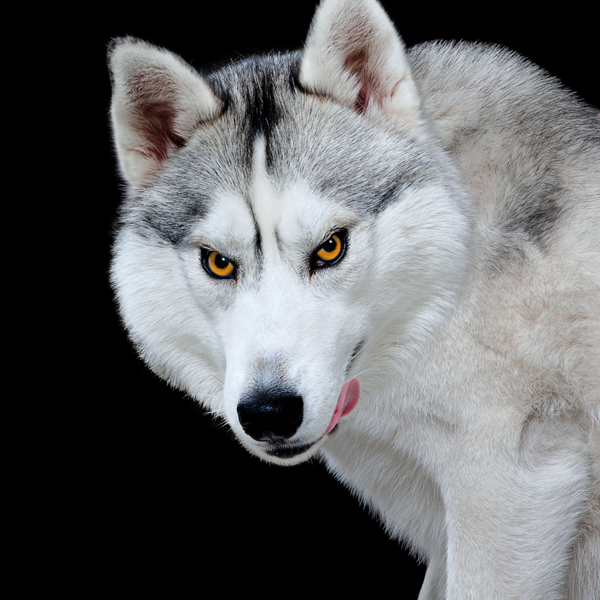Lobo: (71, 1, 547, 557)
